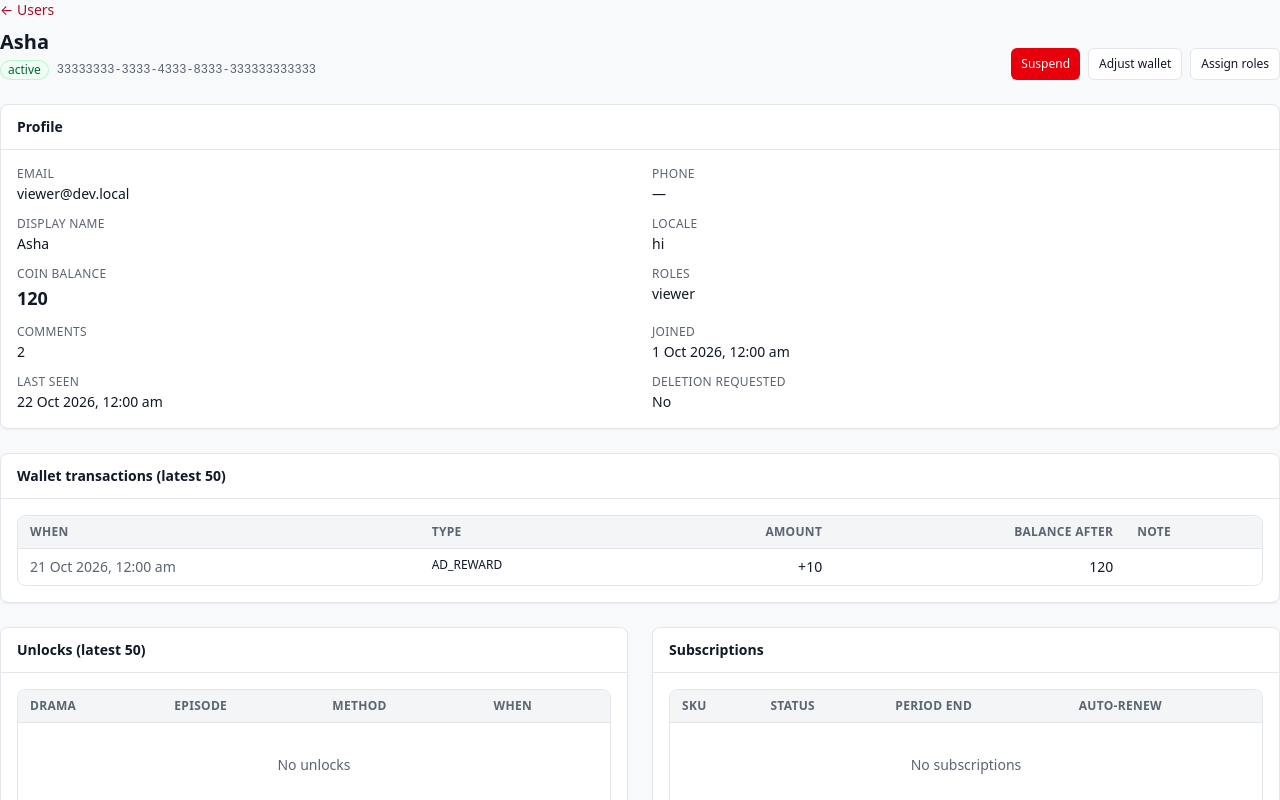
Scenario: UserDetail permissions › lets an owner adjust the wallet
Click the button "Adjust wallet" at x=1135, y=64, box [1088, 48, 1182, 80]
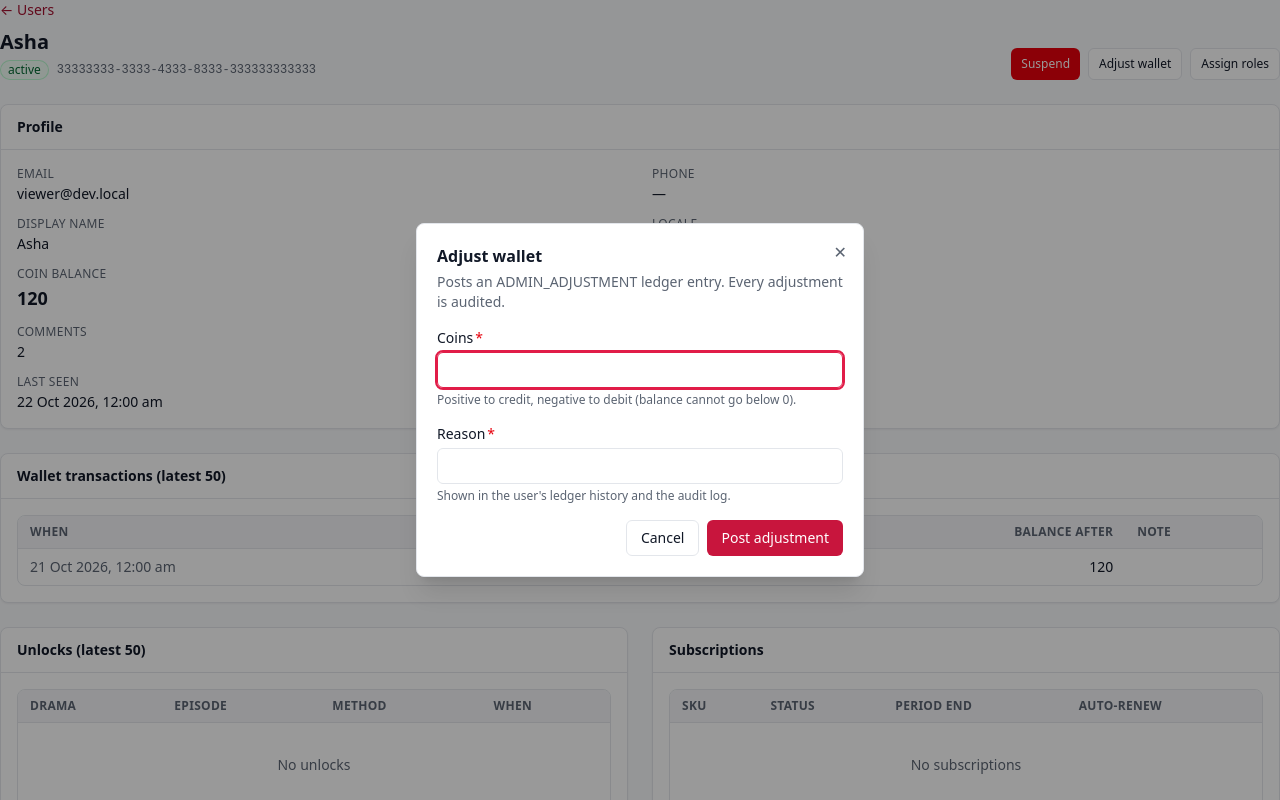
Type "50" into the field labelled "Coins*" at x=640, y=370, box [437, 352, 843, 388]
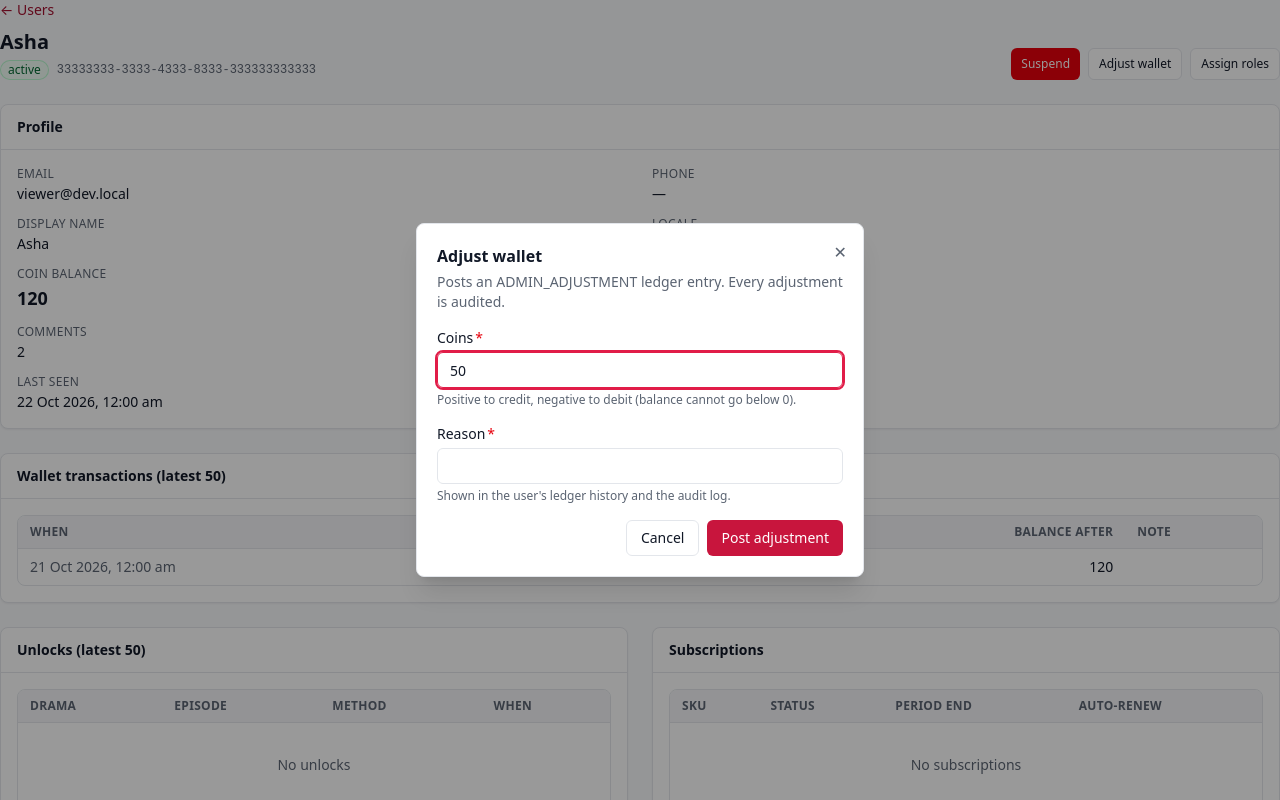
Type "Goodwill credit" into the field labelled "Reason*" at x=640, y=466, box [437, 448, 843, 484]
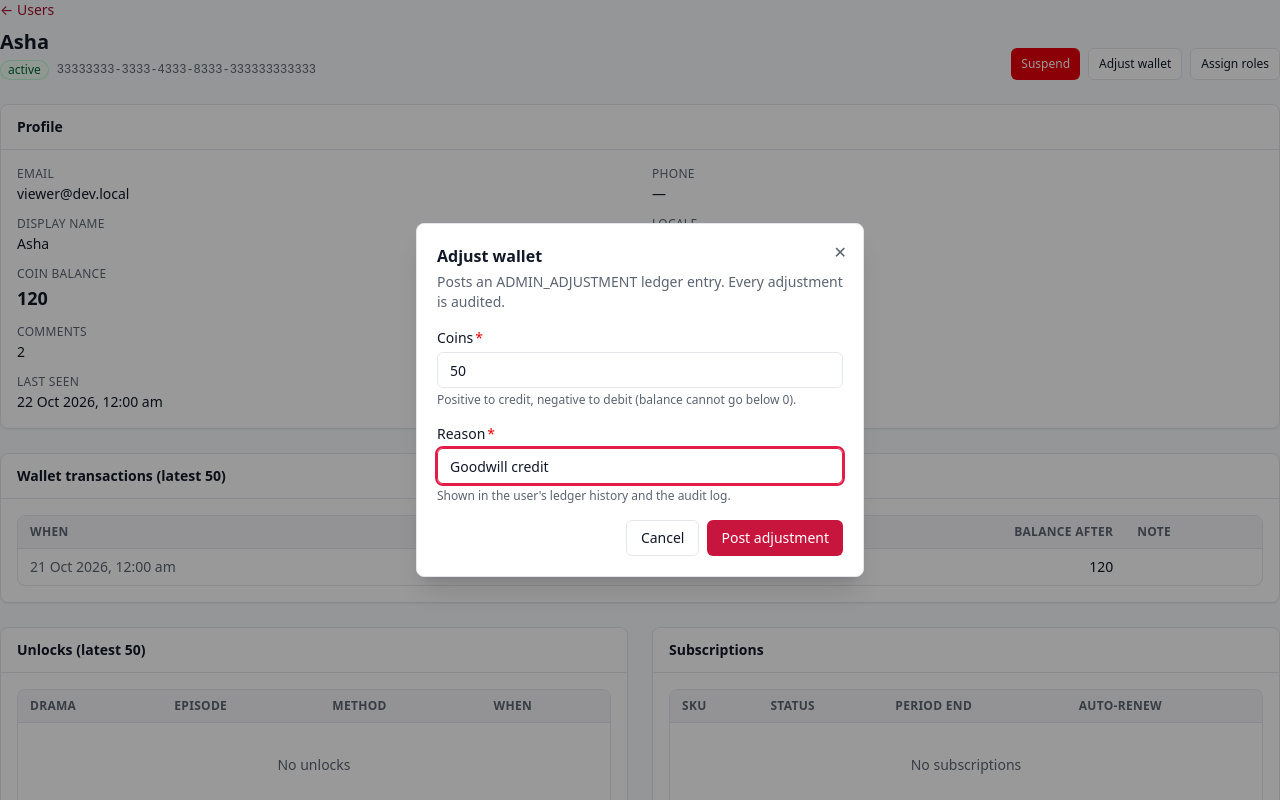
Click the button "Post adjustment" at x=775, y=538, box [708, 520, 843, 556]
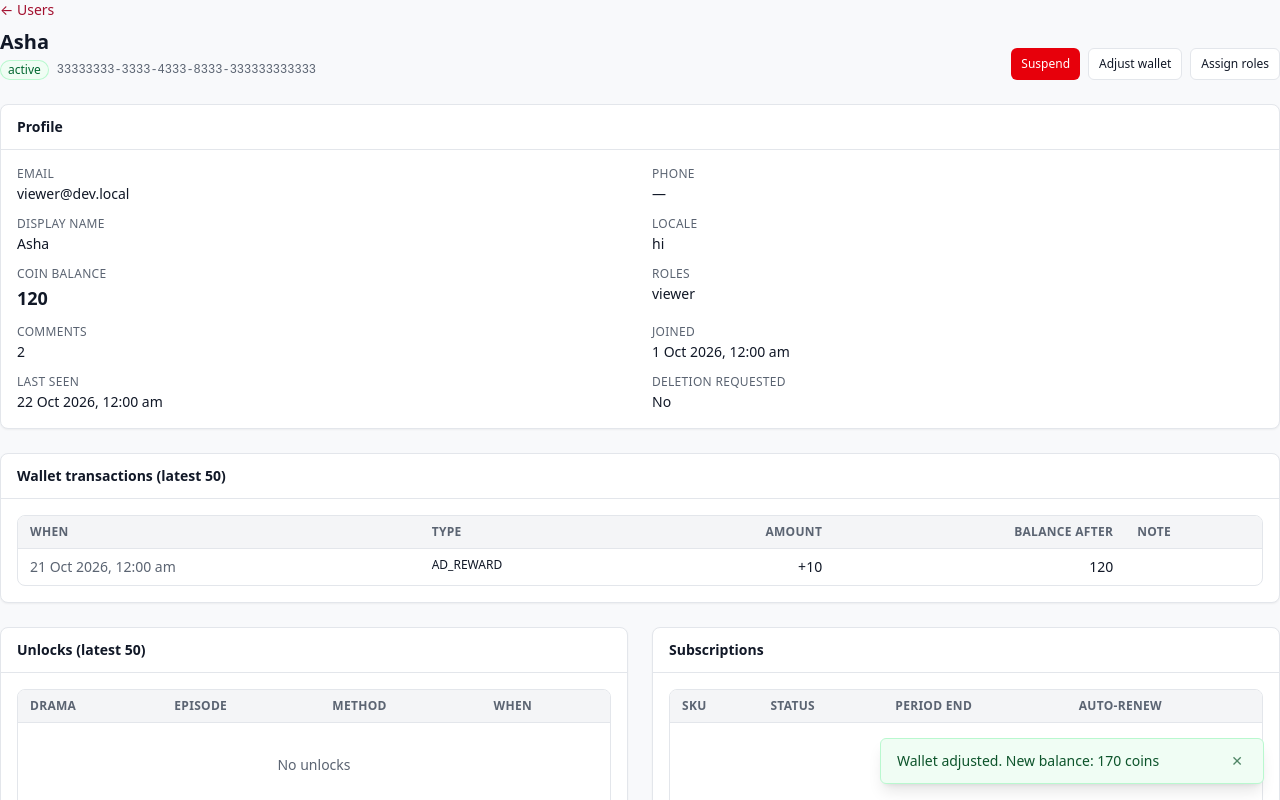
expect the text "Wallet adjusted. New balance: 170 coins" is shown: met, box [897, 751, 1159, 771]
